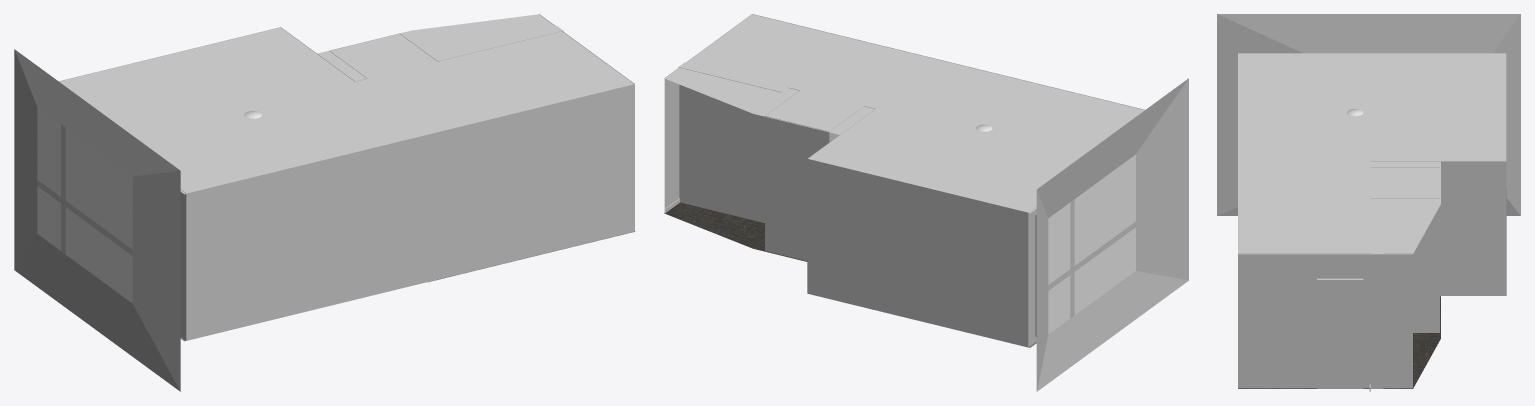
Rendered from Main Room.fbx.
The picture shows the model from 3 angles, left to right: view 1: azimuth 30°, elevation 25°; view 2: azimuth 150°, elevation 25°; view 3: azimuth 270°, elevation 25°; orthographic projection. The views are drawn at different scales.
Parts seen in each view (by area): view 1: Main Room; view 2: Main Room; view 3: Main Room.
Part boxes in pixels (x1,y1,x2,y2): Main Room: (14, 14, 635, 391); Main Room: (664, 14, 1188, 391); Main Room: (1217, 14, 1520, 391).
Bounding box in the file's own units: 7 × 5.14 × 11.5.
